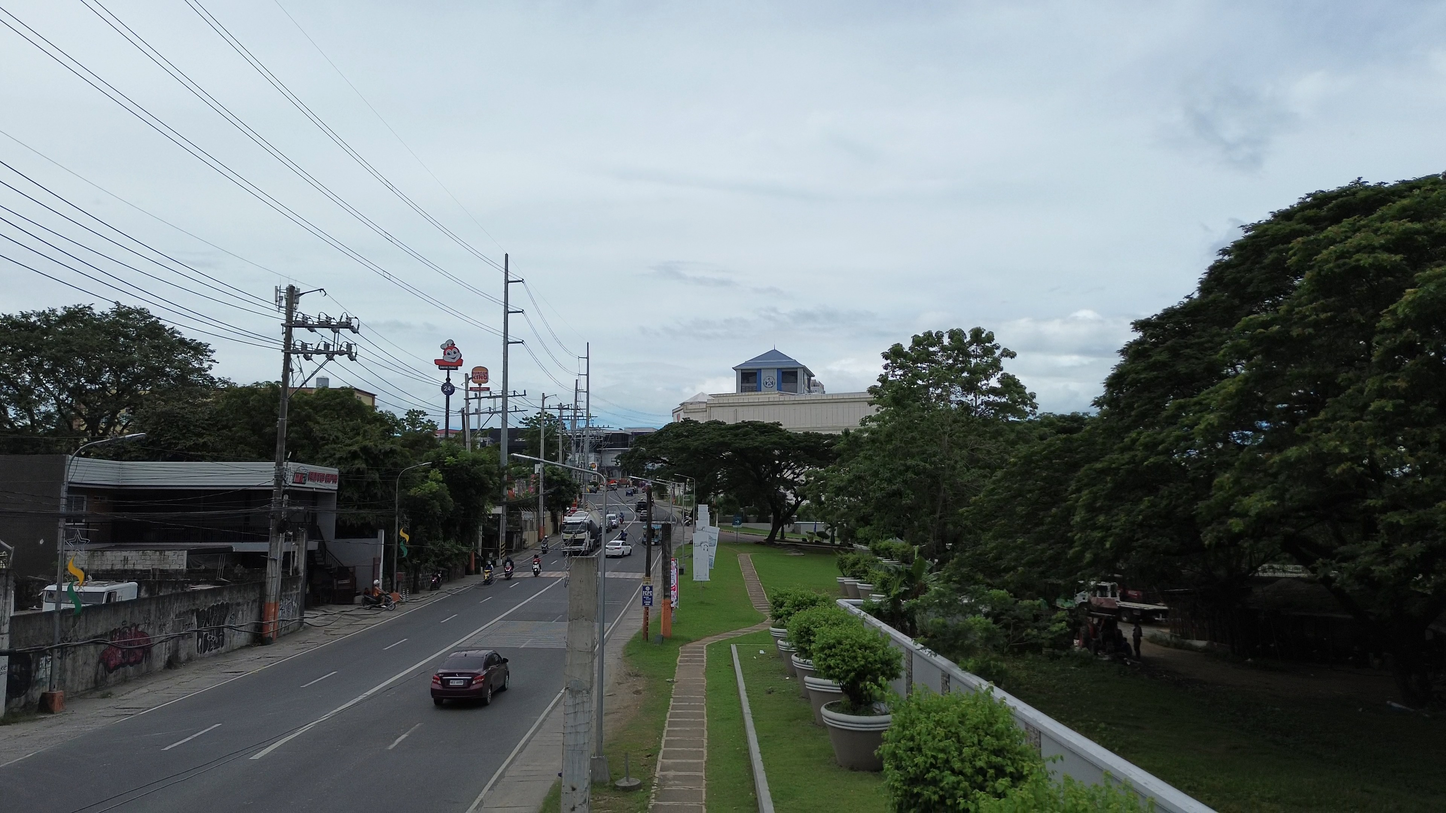car: (431, 650, 509, 705)
motorcycle: (429, 571, 442, 591), (482, 565, 493, 585), (503, 563, 513, 580), (532, 562, 540, 577), (541, 540, 548, 554)
vehicle: (1075, 583, 1167, 622), (560, 508, 604, 556), (75, 582, 138, 605), (605, 539, 631, 557), (606, 513, 619, 529), (634, 499, 647, 515), (503, 562, 513, 580), (532, 561, 540, 577)
